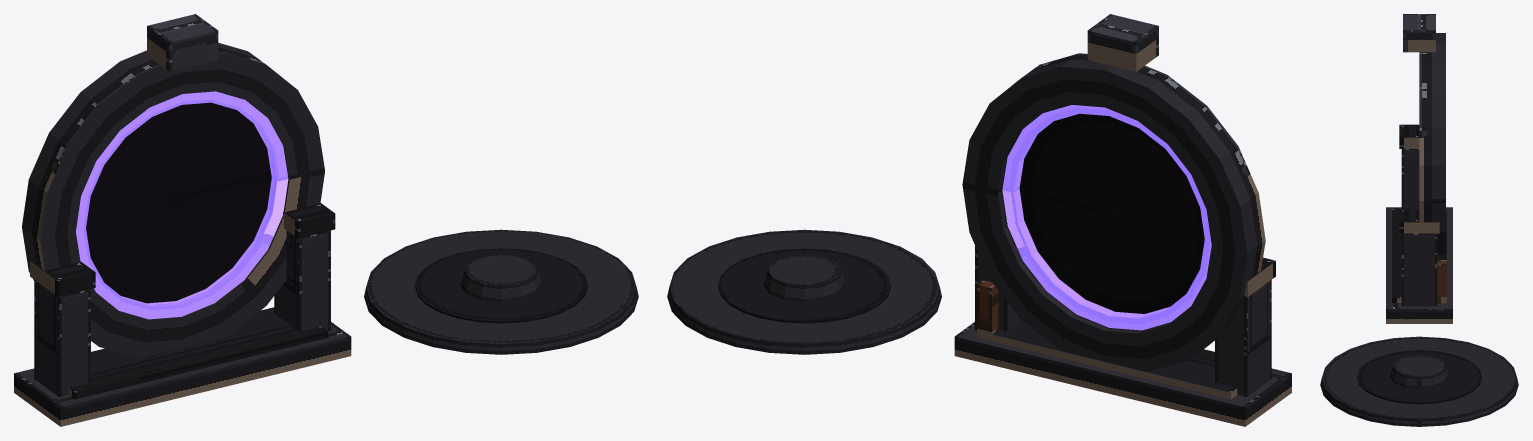
Rendered from portal_fixtures.gltf.
3 renders of one model, left to right at view 1: azimuth 30°, elevation 25°; view 2: azimuth 150°, elevation 25°; view 3: azimuth 270°, elevation 25°, orthographic. The views are drawn at different scales.
Parts seen in each view (by area): view 1: PortalArch, PortalPadRing; view 2: PortalArch, PortalPadRing; view 3: PortalArch, PortalPadRing.
Part boxes in pixels (x1,y1,x2,y2): PortalArch: [14, 14, 351, 426]; PortalPadRing: [364, 229, 638, 354]; PortalArch: [954, 14, 1291, 426]; PortalPadRing: [667, 229, 941, 354]; PortalArch: [1386, 14, 1452, 323]; PortalPadRing: [1320, 336, 1518, 426].
Bounding box in the file's own units: 6.22 × 3.53 × 2.54.
Materials: 2 (2 with a texture image).
